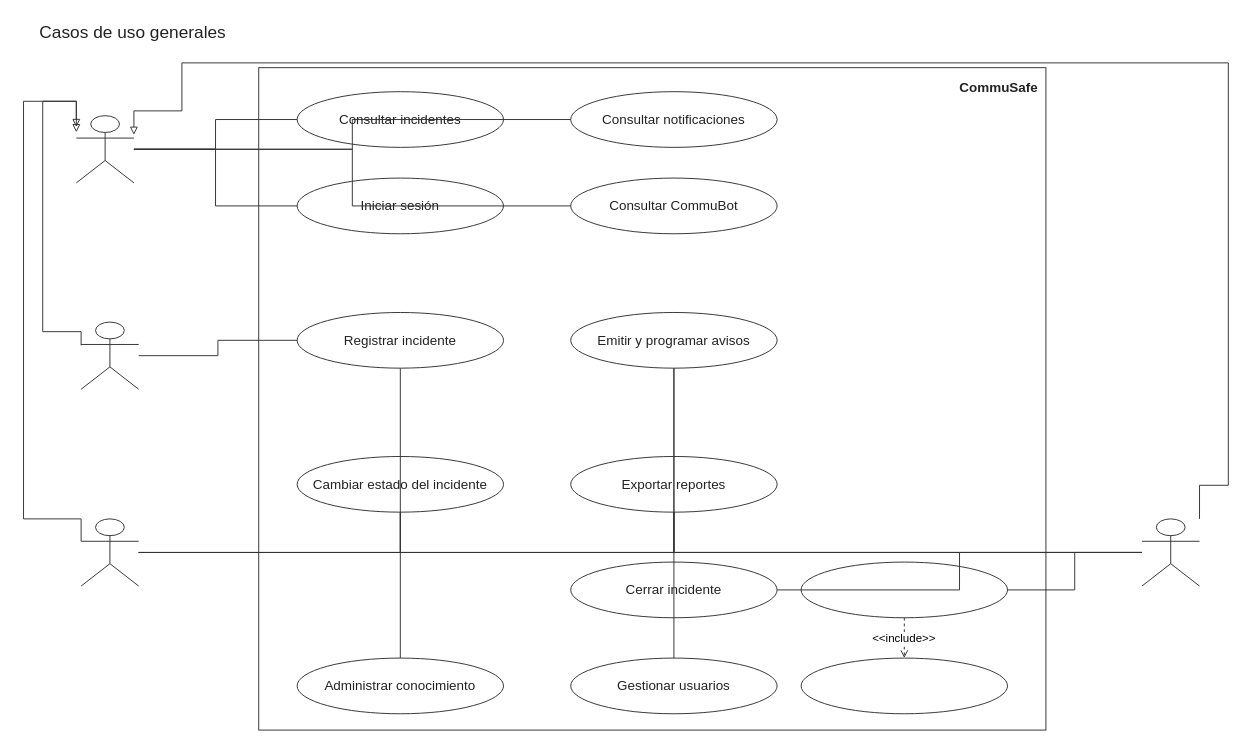
The diagram is 1253 pixels wide and 747 high, and some of its shapes have lost their labels. The centre of each missing label's shape, as x and y in pixels:
Administrador: (x=1170, y=552)
Eliminar incidente: (x=904, y=589)
Registrar auditoría: (x=904, y=685)
Residente: (x=109, y=355)
Usuario: (x=104, y=149)
Vigilante: (x=109, y=552)
